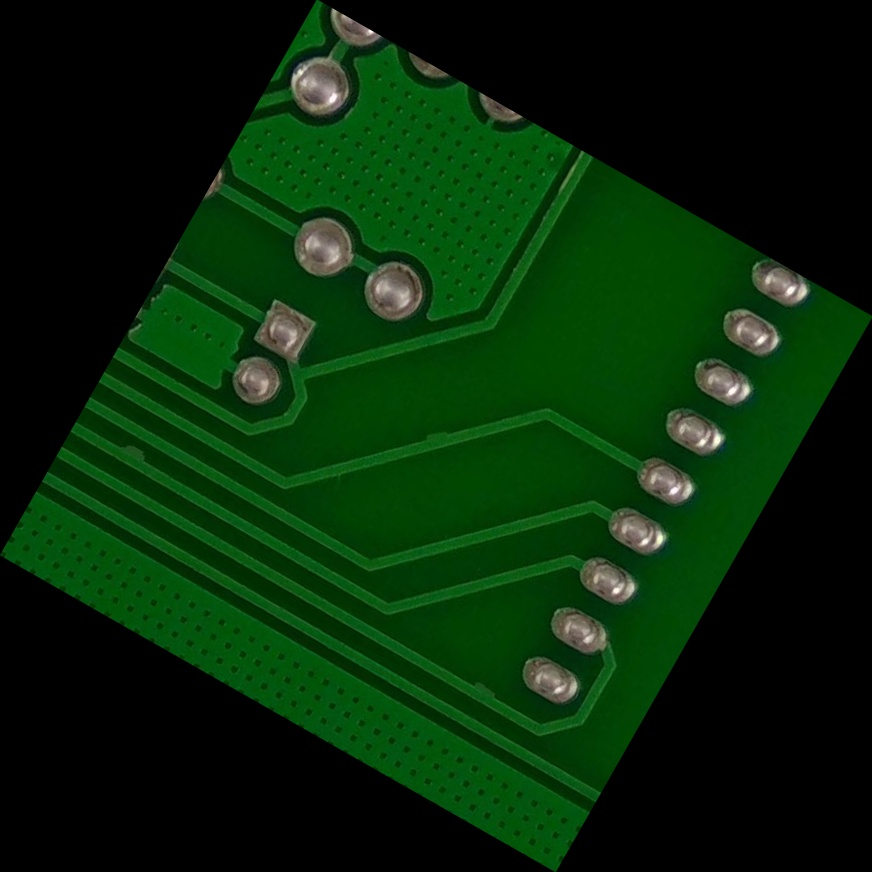spur: (398, 399, 474, 474)
